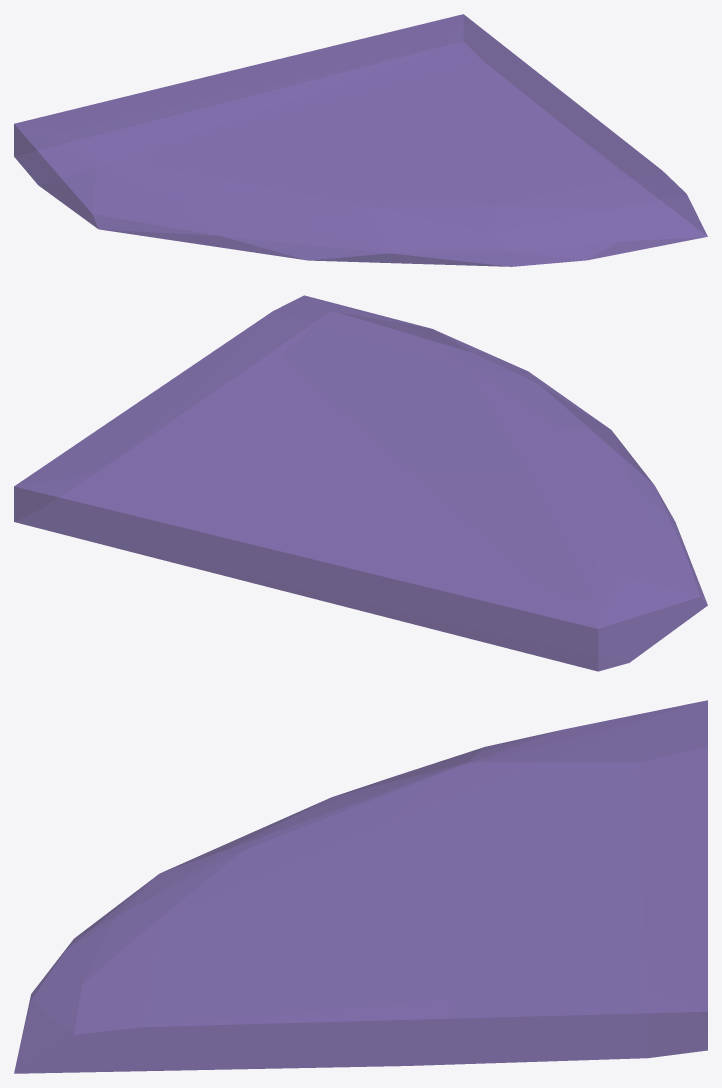
3 renders of one model, top to bottom at view 1: azimuth 30°, elevation 25°; view 2: azimuth 150°, elevation 25°; view 3: azimuth 270°, elevation 25°, orthographic. The views are drawn at different scales.
Parts seen in each view (by area): view 1: Shape_IndexedFaceSet.012_Shape_IndexedFaceSet.9023; view 2: Shape_IndexedFaceSet.012_Shape_IndexedFaceSet.9023; view 3: Shape_IndexedFaceSet.012_Shape_IndexedFaceSet.9023.
Part boxes in pixels (x1,y1,x2,y2): Shape_IndexedFaceSet.012_Shape_IndexedFaceSet.9023: (14, 14, 707, 266); Shape_IndexedFaceSet.012_Shape_IndexedFaceSet.9023: (14, 295, 707, 671); Shape_IndexedFaceSet.012_Shape_IndexedFaceSet.9023: (14, 700, 707, 1073).
Bounding box in the file's own units: 0.2001 × 0.0186 × 0.1885.
